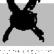not correct: (1, 0, 47, 44)
